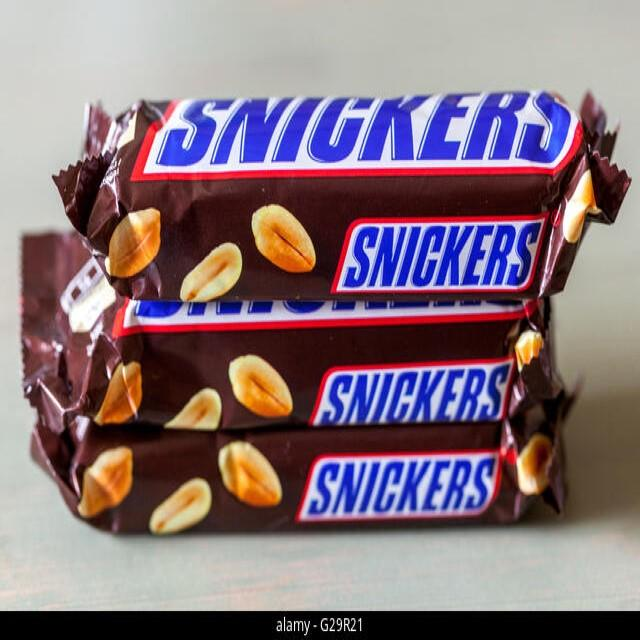snickers_chocolate: (99, 103, 628, 300), (70, 285, 543, 425), (70, 438, 608, 538)
